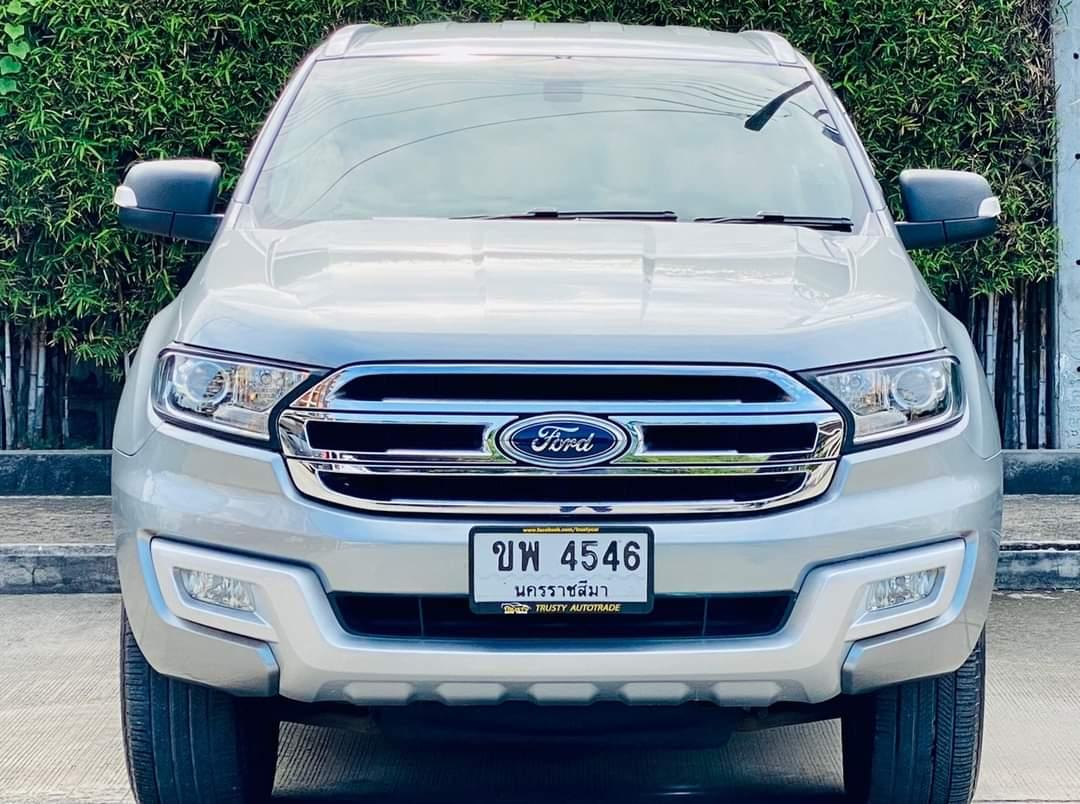license-plate: (466, 523, 656, 618)
